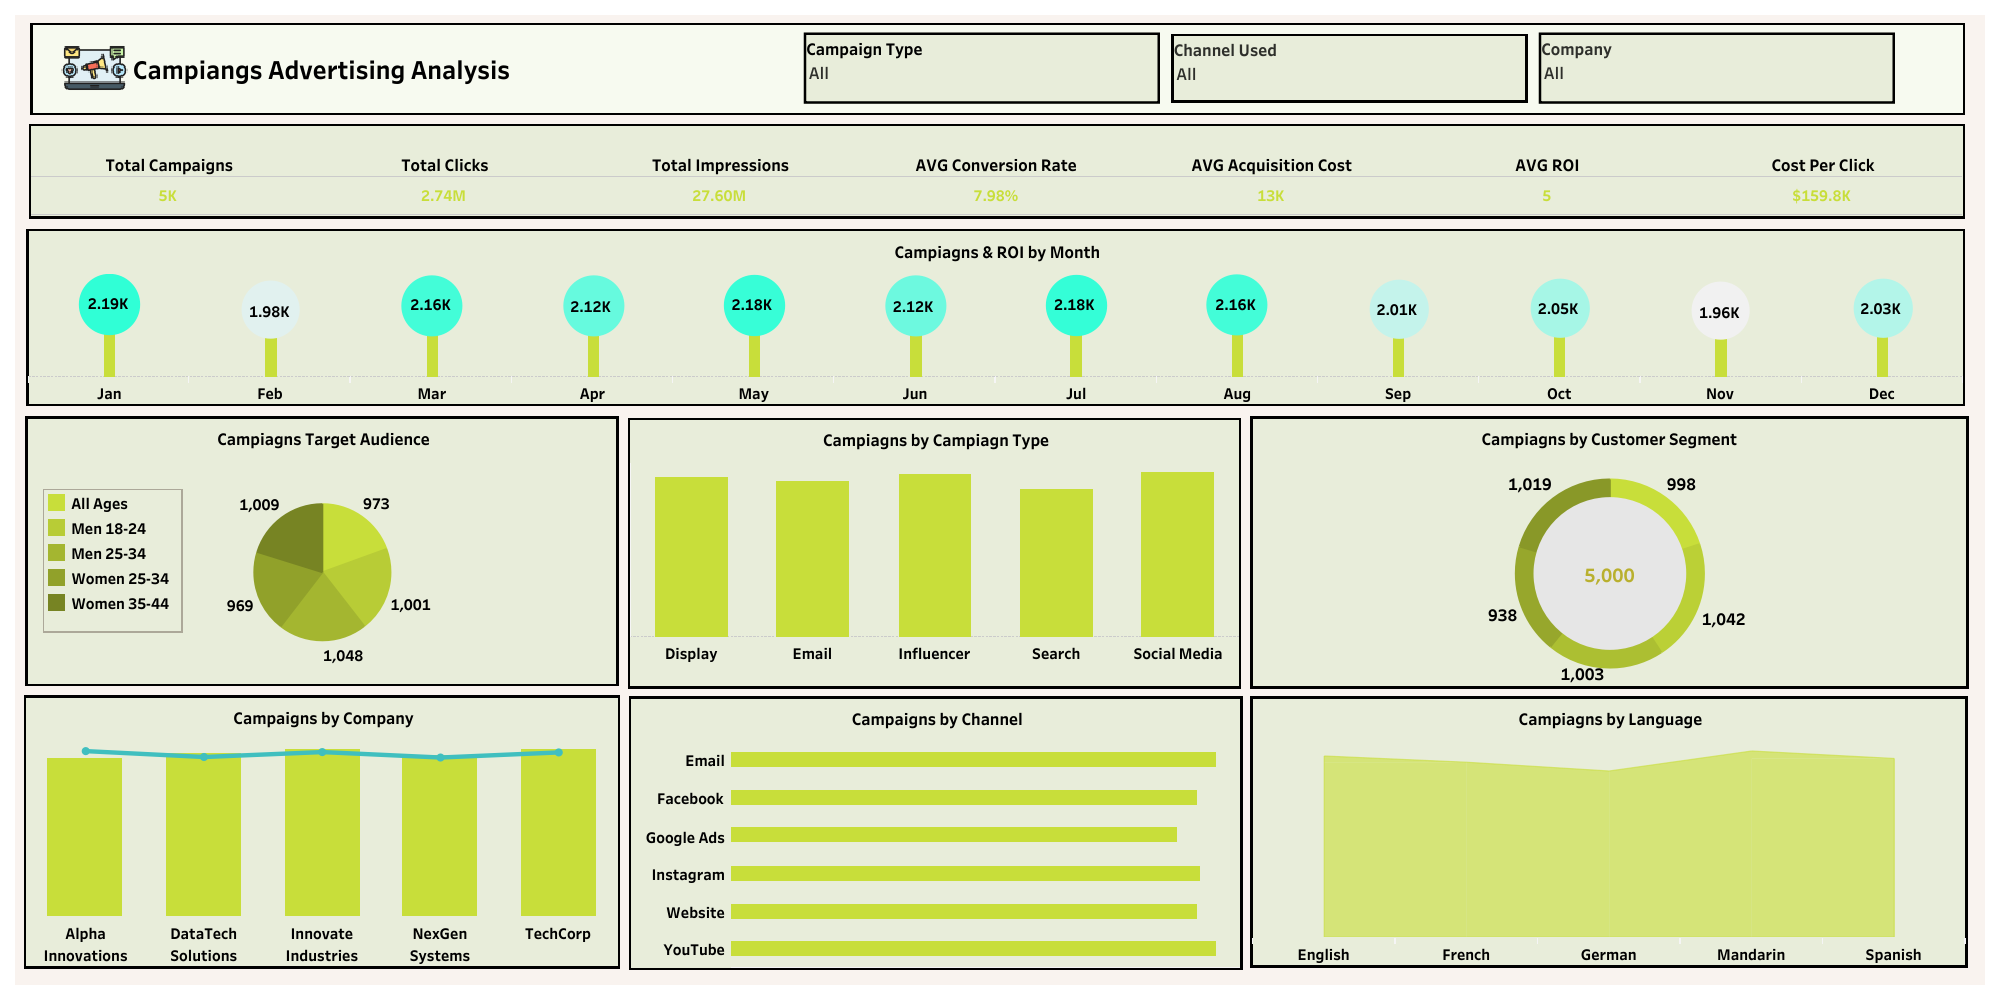

The page's visual inventory and layout, read from the dashboard file:
{"tool":"tableau","page":{"name":"Overview","canvas":[1600,800],"ordinal":0},"visuals":[{"type":"text","box":[24,18,1548,74]},{"type":"image","param":"Image/Icon.png","box":[28,26,95,57]},{"type":"filter","title":"Campiagn Type","param":"[federated.1rvgeg700de6sn1fkjduq035zcuh].[none:Campaign_Type:nk]","box":[643,26,285,57]},{"type":"filter","title":"Company","param":"[federated.1rvgeg700de6sn1fkjduq035zcuh].[none:Company:nk]","box":[1231,26,285,57]},{"type":"filter","title":"Channel","param":"[federated.1rvgeg700de6sn1fkjduq035zcuh].[none:Channel_Used:nk]","box":[937,27,285,55]},{"type":"worksheet","title":"KPIs","mark":"Automatic","box":[23,99,1549,76]},{"type":"worksheet","title":"Total Campiagns by Month","mark":"Bar","rows":["Calculation_720294475599126528","ROI"],"cols":["Date"],"box":[21,183,1551,142]},{"type":"worksheet","title":"Target Audience","mark":"Pie","box":[20,333,475,216]},{"type":"worksheet","title":"Customer Segement","mark":"Pie","rows":["Calculation_2091640562532249607","Calculation_2091640562532249607"],"box":[1000,333,575,218]},{"type":"worksheet","title":"Campiagn Type","mark":"Bar","rows":["Calculation_720294475599126528"],"cols":["Campaign_Type"],"box":[502,334,491,217]},{"type":"legend","title":"Target Audience","param":"[federated.1rvgeg700de6sn1fkjduq035zcuh].[none:Target_Audience:nk]","box":[34,391,112,115]},{"type":"worksheet","title":"Company","mark":"Bar","rows":["Calculation_720294475599126528","Calculation_720294475609415685"],"cols":["Company"],"box":[19,556,477,219]},{"type":"worksheet","title":"Channel","mark":"Bar","rows":["Channel_Used"],"cols":["Calculation_720294475599126528"],"box":[503,557,491,219]},{"type":"worksheet","title":"Language","mark":"Area","rows":["Calculation_720294475599126528"],"cols":["Language"],"box":[1000,557,574,217]}]}

Visuals, with their boxes in screenshot pixels (x1, y1, x2, y2), scaled from the page's 1600x800 canvas onto the 1999x999 screenshot:
text: box(30, 22, 1964, 115)
image: box(35, 32, 154, 104)
"Campiagn Type" filter: box(803, 32, 1159, 104)
"Company" filter: box(1538, 32, 1894, 104)
"Channel" filter: box(1171, 34, 1527, 102)
"KPIs" worksheet: box(29, 124, 1964, 219)
"Total Campiagns by Month" worksheet (Bar marks): box(26, 229, 1964, 406)
"Target Audience" worksheet (Pie marks): box(25, 416, 618, 686)
"Customer Segement" worksheet (Pie marks): box(1249, 416, 1968, 688)
"Campiagn Type" worksheet (Bar marks): box(627, 417, 1241, 688)
"Target Audience" legend: box(42, 488, 182, 632)
"Company" worksheet (Bar marks): box(24, 694, 620, 968)
"Channel" worksheet (Bar marks): box(628, 696, 1242, 969)
"Language" worksheet (Area marks): box(1249, 696, 1967, 967)
